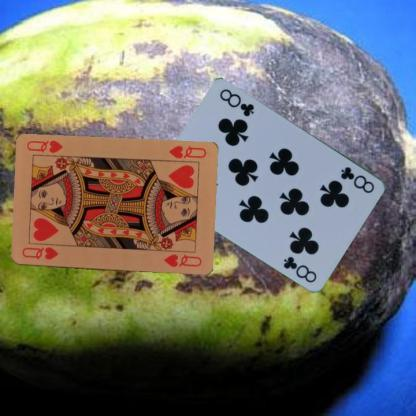8c: (338, 164, 376, 194)
Qh: (19, 244, 60, 262), (166, 143, 208, 160)
